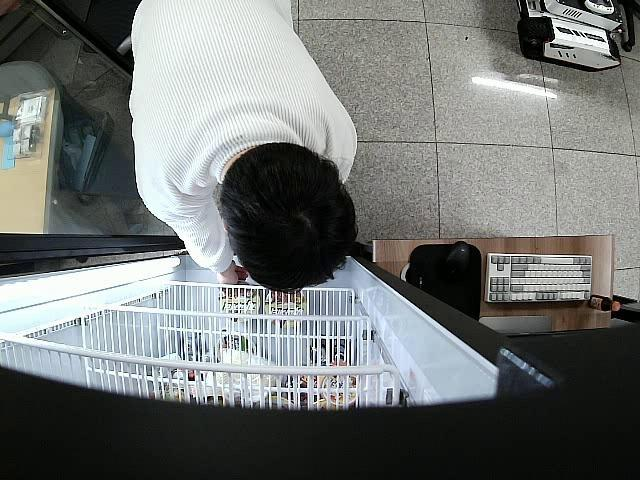03_chapagetti_L: (220, 284, 262, 320)
